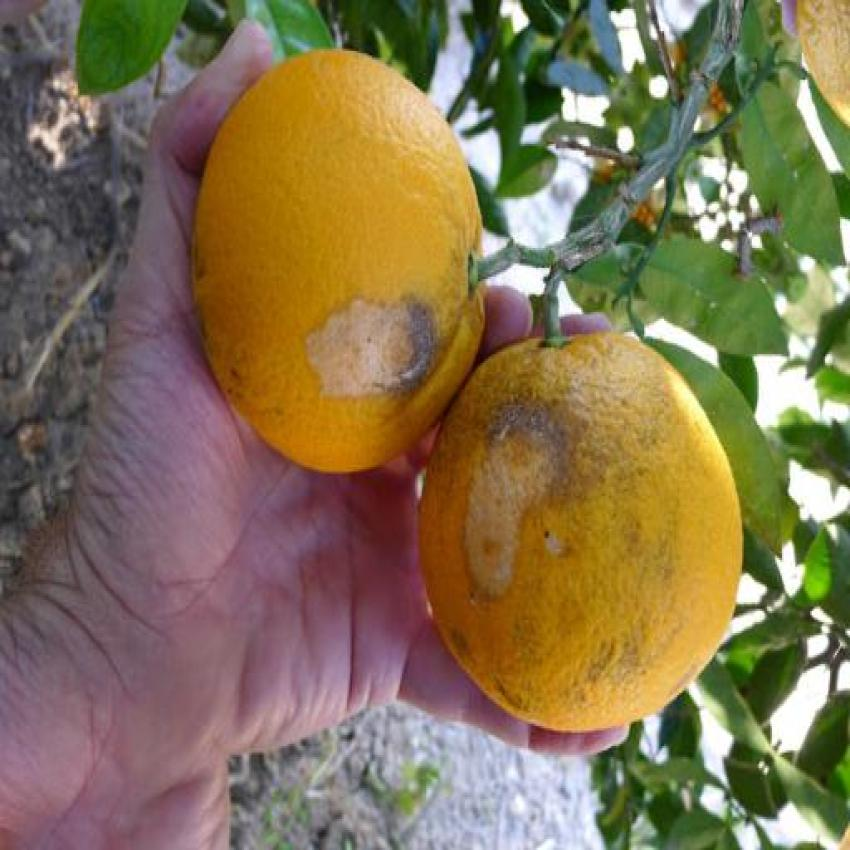Mal estado: (418, 311, 758, 754), (186, 50, 490, 485)
